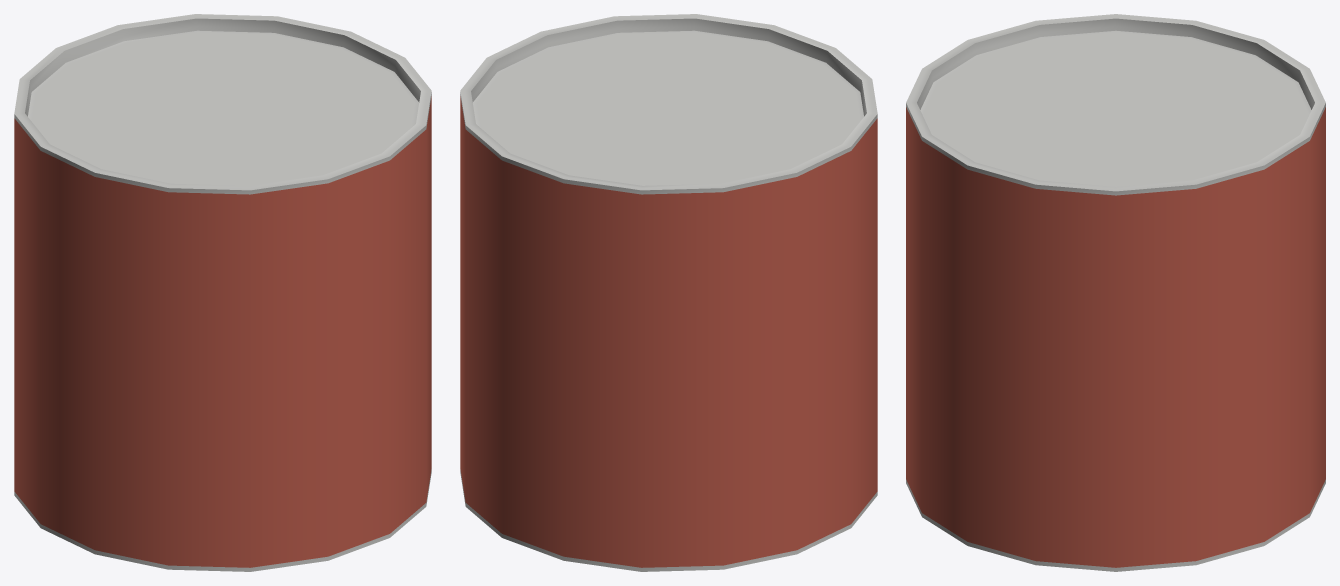
File: Product_CanRed.fbx
The picture shows the model from 3 angles, left to right: view 1: azimuth 30°, elevation 25°; view 2: azimuth 150°, elevation 25°; view 3: azimuth 270°, elevation 25°; orthographic projection.
Parts seen in each view (by area): view 1: Product_CanRed; view 2: Product_CanRed; view 3: Product_CanRed.
Part boxes in pixels (bbox=[...]): Product_CanRed: bbox=[14, 14, 431, 571]; Product_CanRed: bbox=[460, 14, 877, 571]; Product_CanRed: bbox=[906, 14, 1325, 571].
Size of the model in its own units: 0.0841 by 0.0841 by 0.0841.
